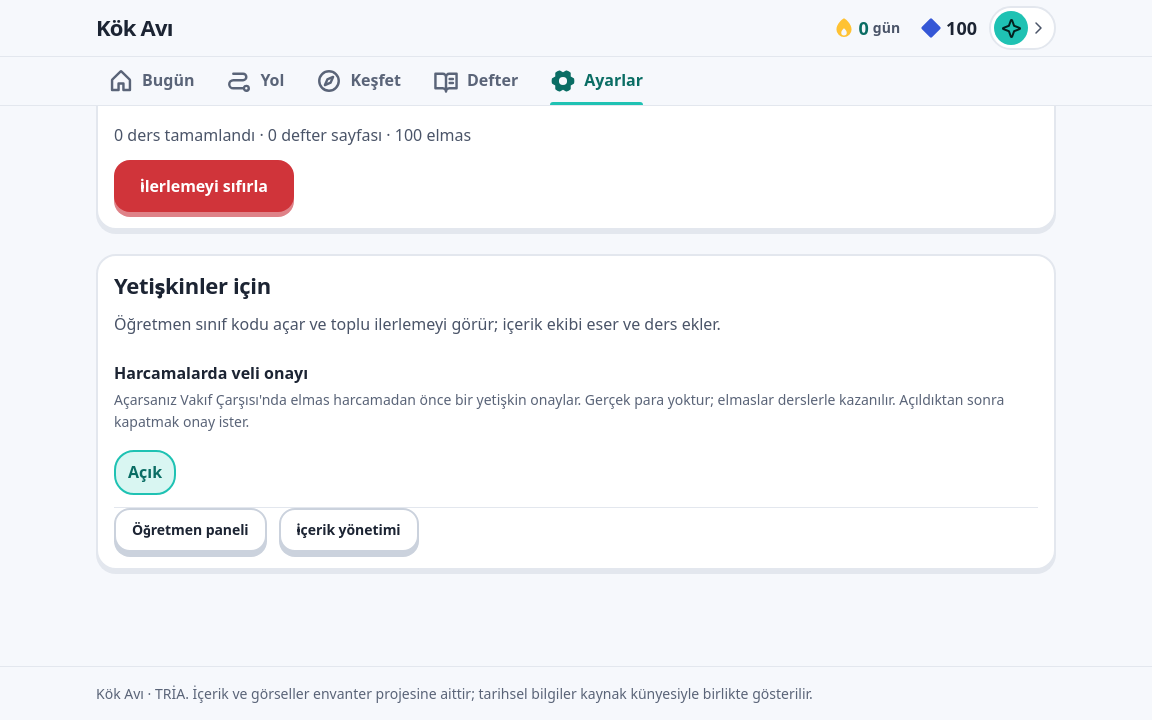
veli kapısı › Ayarlar: açılmış kuralı kapatmak onay ister; kapalıyken çarşı sormaz
(page scrolled)
Click the button "Açık" at [145, 473], box top-left (114, 450), bottom-right (176, 495)
(page scrolled)
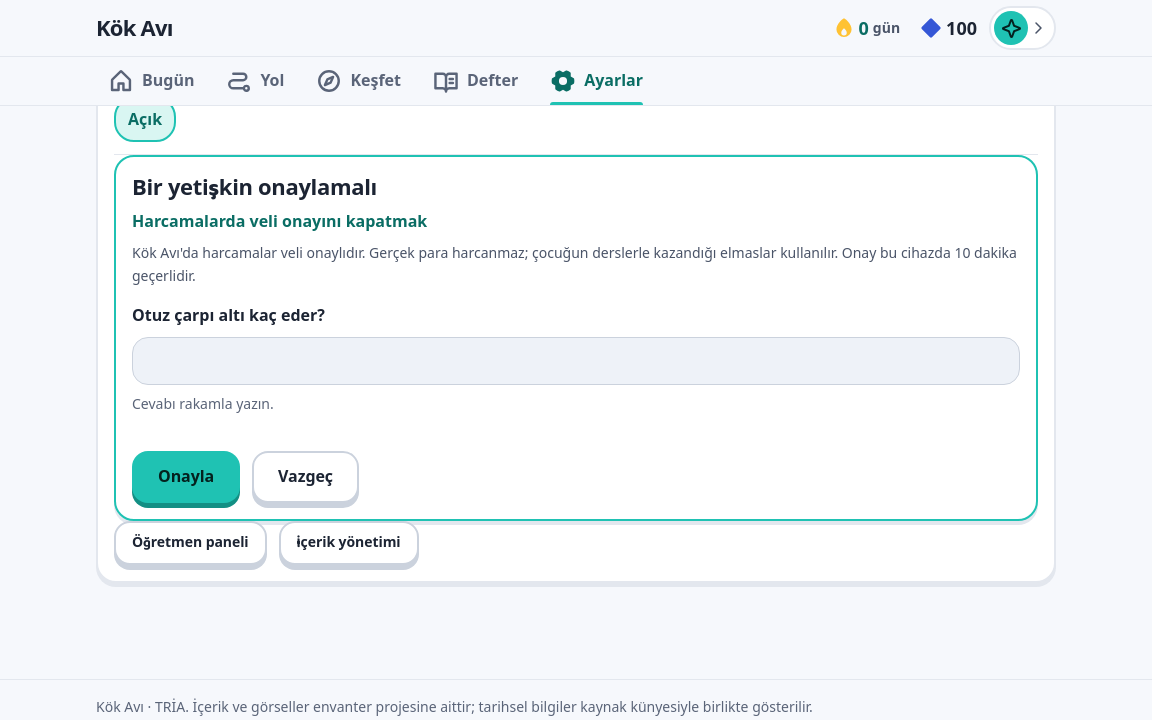
Type "180" into the field labelled "Otuz çarpı altı kaç eder?" at [576, 361], box top-left (132, 337), bottom-right (1020, 385)
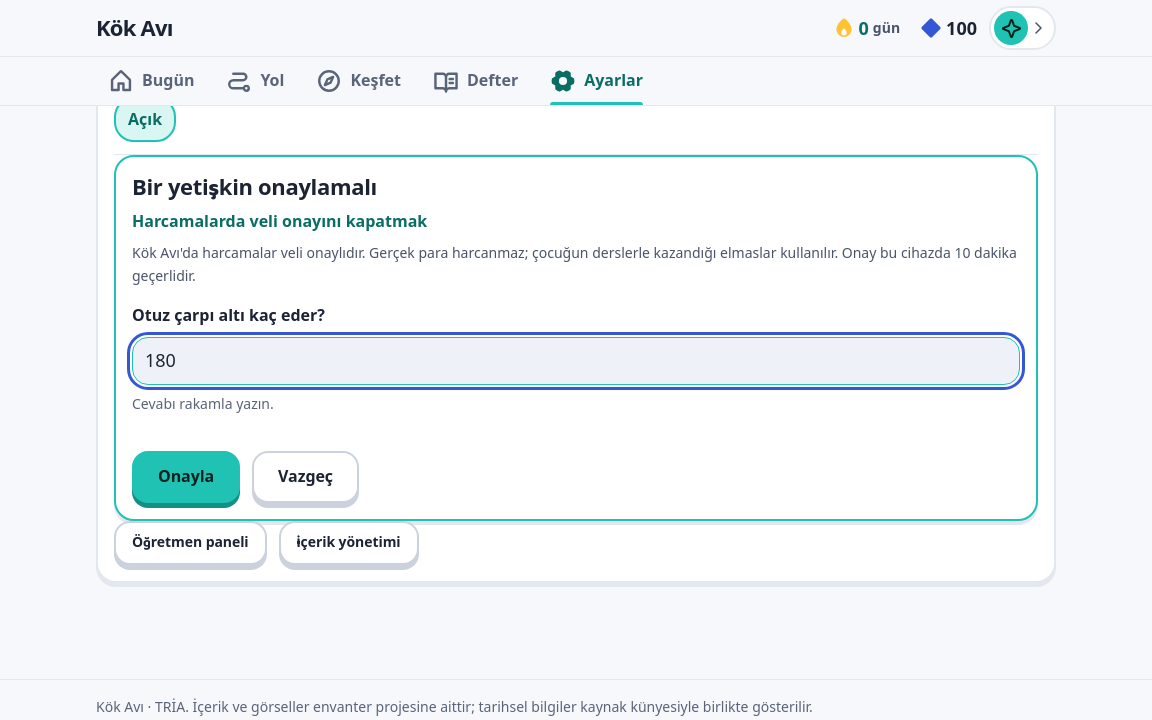
Click the button "Onayla" at [186, 477], box top-left (132, 451), bottom-right (240, 503)
(page scrolled)
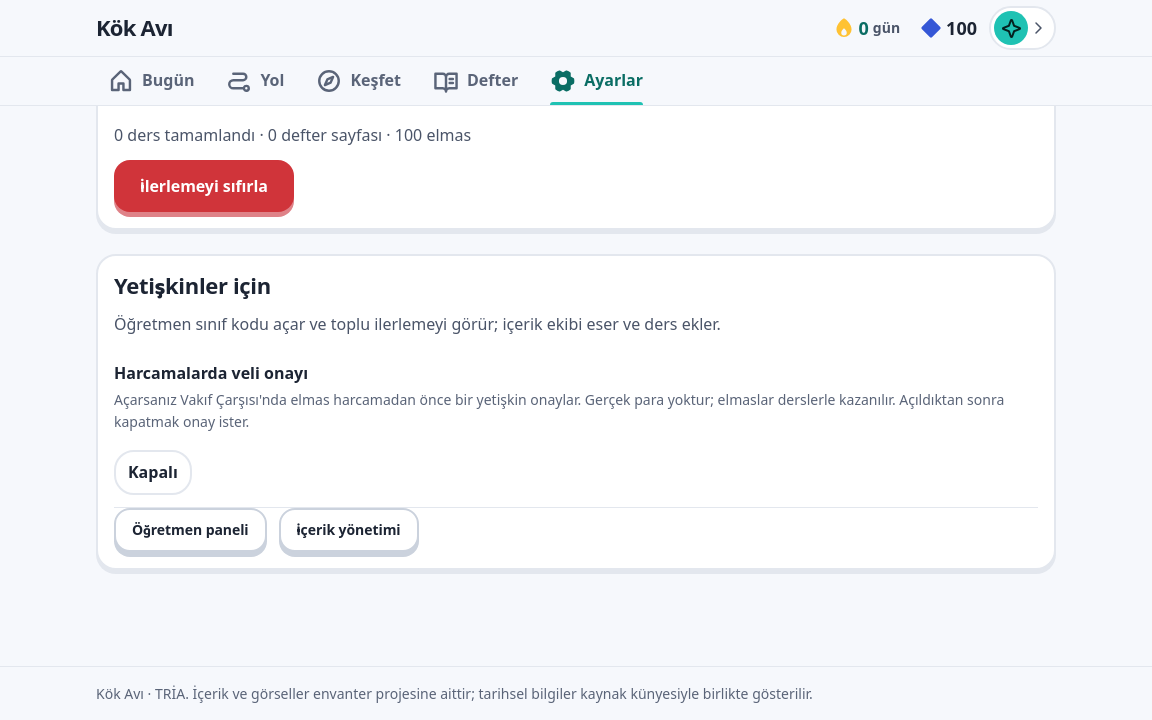
expect the button "Kapalı" is not pressed: met, box top-left (114, 450), bottom-right (192, 495)
